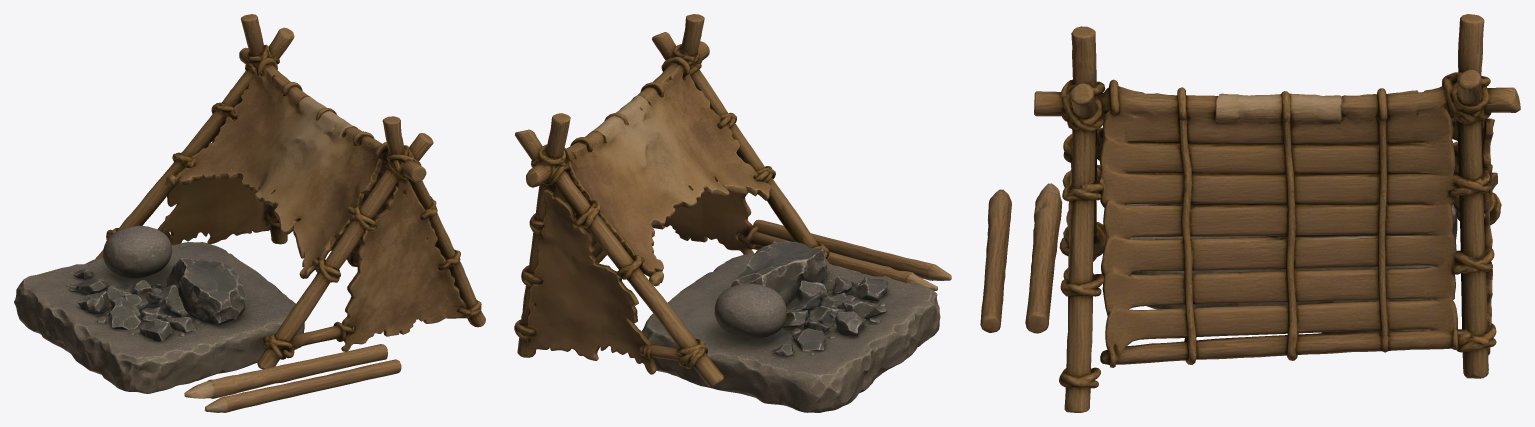
The model's file is Tool Maker (North American Native).fbx.
The picture shows the model from 3 angles, left to right: view 1: azimuth 30°, elevation 25°; view 2: azimuth 150°, elevation 25°; view 3: azimuth 270°, elevation 25°; orthographic projection. The views are drawn at different scales.
Parts seen in each view (by area): view 1: tripo_node_d010d9ab; view 2: tripo_node_d010d9ab; view 3: tripo_node_d010d9ab.
Boxes of the visible parts, x1,y1,x2,y2 form: tripo_node_d010d9ab: (14,14,485,412); tripo_node_d010d9ab: (514,14,951,412); tripo_node_d010d9ab: (980,14,1520,412).
Bounding box in the file's own units: 1 × 0.6382 × 0.9279.
